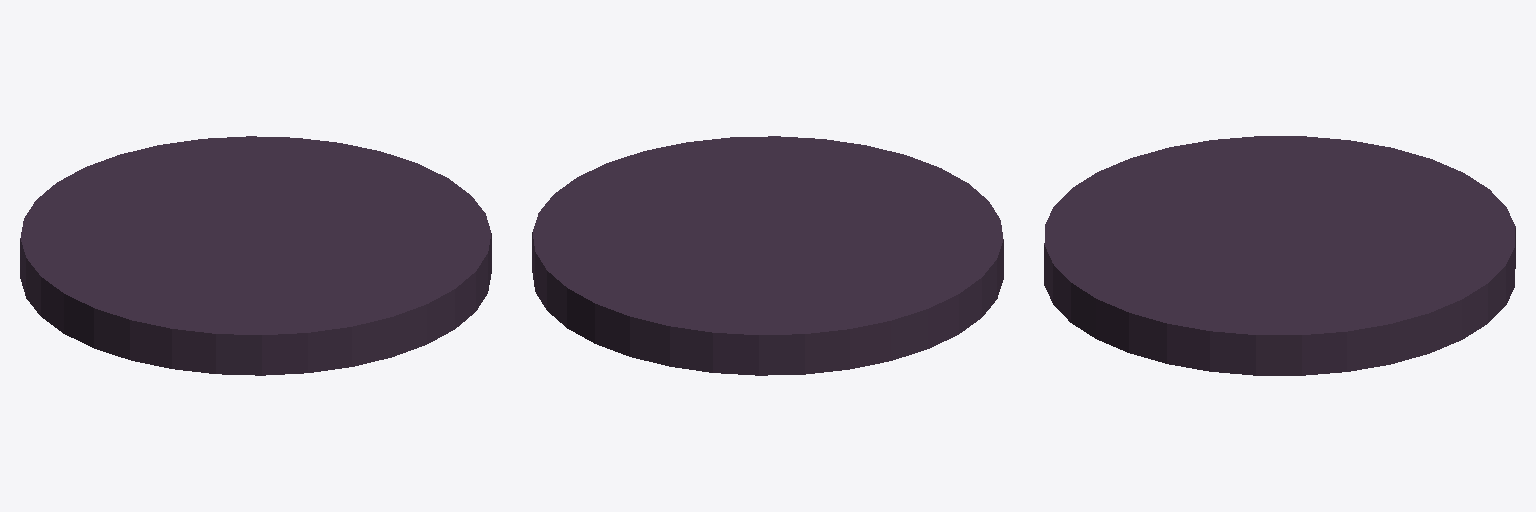
robot.urdf — Interference:
<?xml version="1.0"?>
<robot name="Interference">
  <link name="baseLink">
    <inertial>
      <origin xyz="0.0 0.0 0.0" rpy="0.0 0.0 0.0"/>
      <inertia ixx="0.0" ixy="0.0" ixz="0.0" iyy="0.0" iyz="0.0" izz="0.0"/>
      <mass value="0"/>
    </inertial>
    <visual>
      <origin xyz="0.0 0.0 0.0" rpy="0.0 0.0 0.289085590100272"/>
      <geometry>
        <cylinder radius="0.052904444112114576" length="0.01"/>
      </geometry>
      <material name="color">
        <color rgba="0.3218270387183876 0.25430241760341254 0.33193619938038976 1.0"/>
      </material>
    </visual>
  </link>
</robot>

--- Render facts (derived) ---
The picture shows the robot from 3 angles, left to right: view 1: azimuth 30°, elevation 25°; view 2: azimuth 150°, elevation 25°; view 3: azimuth 270°, elevation 25°; orthographic projection.
Model Interference with 1 links and 0 joints (none), rooted at baseLink, posed all joints at 0.
Links seen in each view (by area): view 1: baseLink; view 2: baseLink; view 3: baseLink.
Boxes of the visible links, box(x1,y1,x2,y2) form: baseLink: box(20, 136, 491, 375); baseLink: box(532, 136, 1003, 375); baseLink: box(1044, 136, 1515, 375).
Bounding box of the posed robot: 0.1054 × 0.1054 × 0.01 m (x, y, z).
Geometry: primitives only (box / cylinder / sphere), no mesh files.